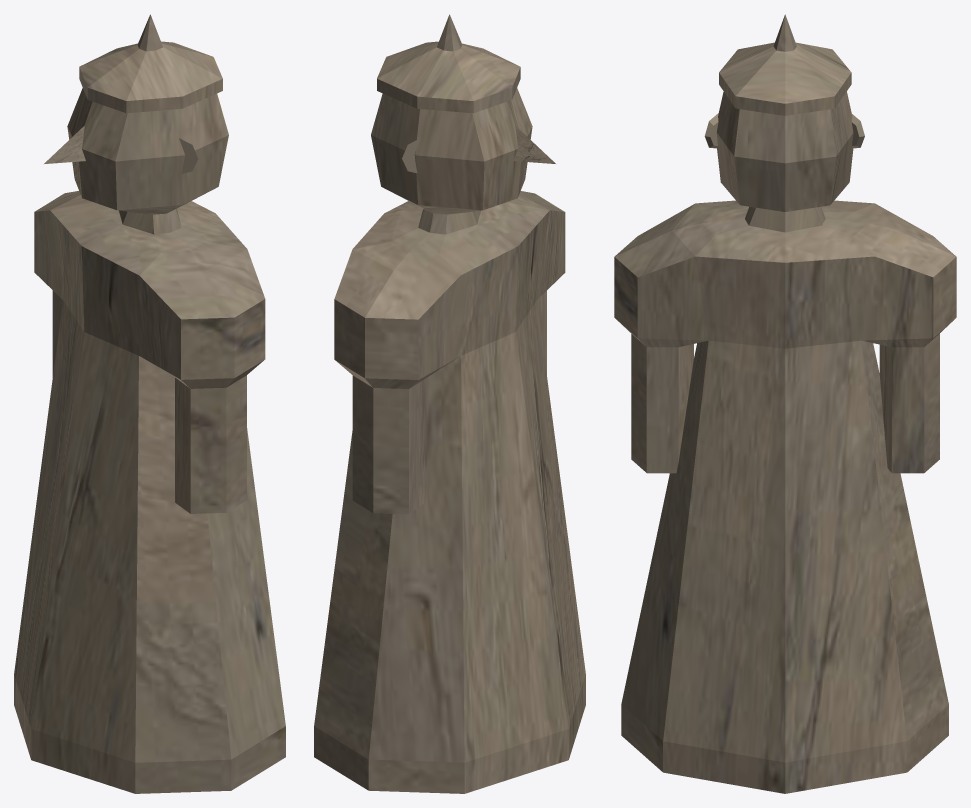
The model's file is Statue1.fbx.
The picture shows the model from 3 angles, left to right: view 1: azimuth 30°, elevation 25°; view 2: azimuth 150°, elevation 25°; view 3: azimuth 270°, elevation 25°; orthographic projection.
Parts seen in each view (by area): view 1: Circle, Cube; view 2: Circle, Cube; view 3: Circle, Circle.001.
Part boxes in pixels (bbox=[...]): Circle: bbox=[14, 14, 285, 793]; Cube: bbox=[44, 126, 85, 163]; Circle: bbox=[314, 14, 585, 793]; Cube: bbox=[513, 126, 555, 163]; Circle: bbox=[614, 14, 956, 793]; Circle.001: bbox=[704, 113, 864, 148].
Size of the model in its own units: 71.9 by 207 by 89.1.
